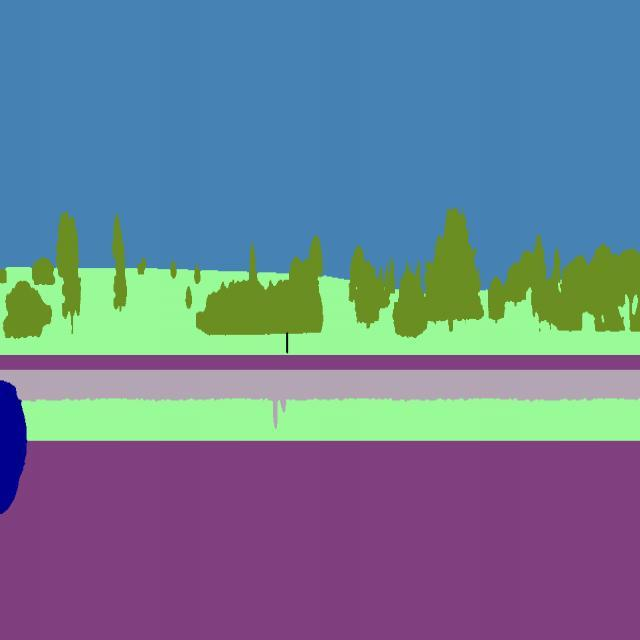unsafe: (0, 358, 45, 528)
